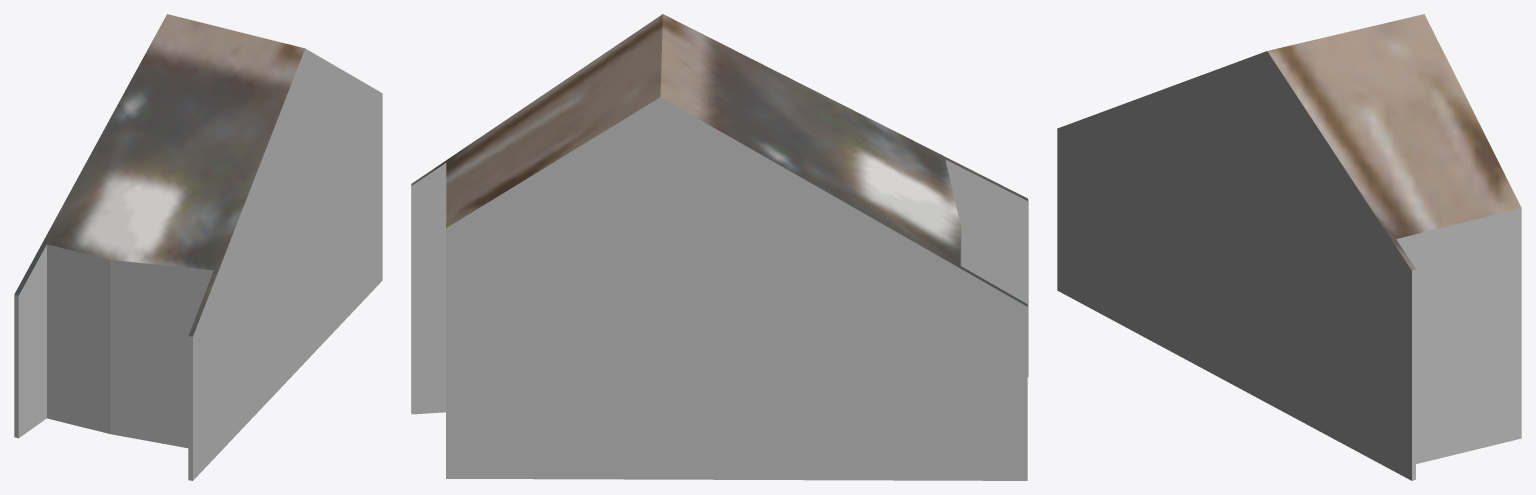
The model's file is DEBW_0010007TvlS.gltf.
3 renders of one model, left to right at view 1: azimuth 30°, elevation 25°; view 2: azimuth 150°, elevation 25°; view 3: azimuth 270°, elevation 25°, orthographic. The views are drawn at different scales.
Visible parts, largest first — view 1: Z_UP; view 2: Z_UP; view 3: Z_UP.
Part boxes in pixels (x1,y1,x2,y2): Z_UP: (14, 14, 382, 480); Z_UP: (411, 14, 1028, 480); Z_UP: (1057, 14, 1521, 480).
Bounding box in the file's own units: 16.46 × 11.3 × 13.5.
Materials: 2 (1 with a texture image).
